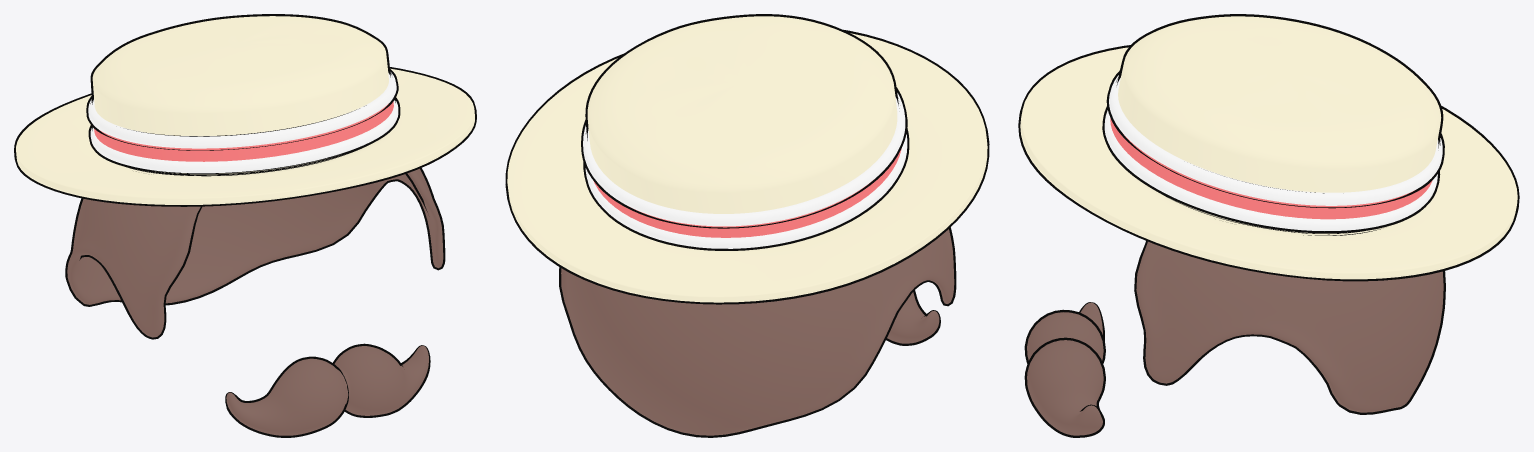
The model's file is HEAD.MUSIC.BARBERSHOP.glb.
3 renders of one model, left to right at view 1: azimuth 30°, elevation 25°; view 2: azimuth 150°, elevation 25°; view 3: azimuth 270°, elevation 25°, orthographic. The views are drawn at different scales.
Parts seen in each view (by area): view 1: HEAD.MUSIC.BARBERSHOP; view 2: HEAD.MUSIC.BARBERSHOP; view 3: HEAD.MUSIC.BARBERSHOP.
Boxes of the visible parts, <box> form: HEAD.MUSIC.BARBERSHOP: <box>14,14,476,437</box>; HEAD.MUSIC.BARBERSHOP: <box>505,14,989,437</box>; HEAD.MUSIC.BARBERSHOP: <box>1018,14,1519,437</box>.
Bounding box in the file's own units: 1.62 × 1.23 × 1.6.
